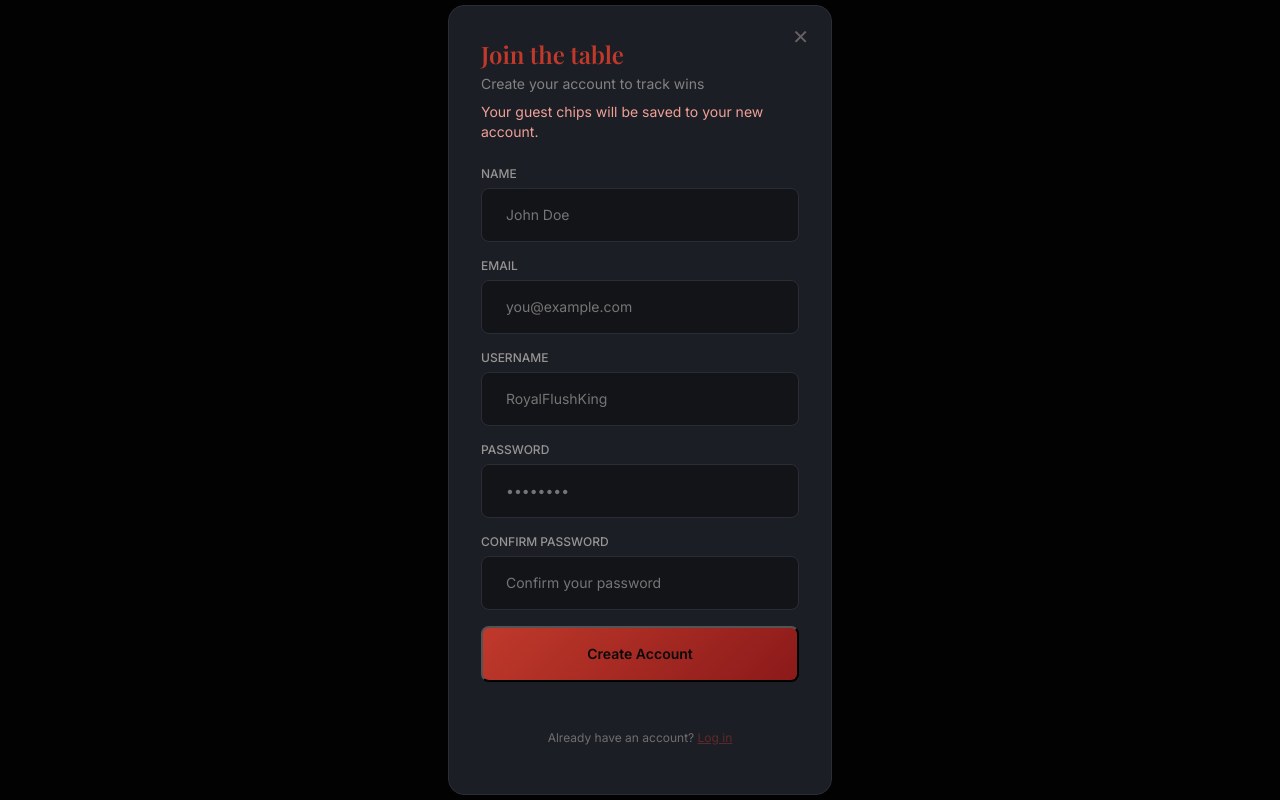
it: Sign up as a guest (G2) › if sign up fails, the guest is kept so their chips are not lost
In the field with placeholder "John Doe": (640, 215) [481, 188, 799, 242], type "Preston"
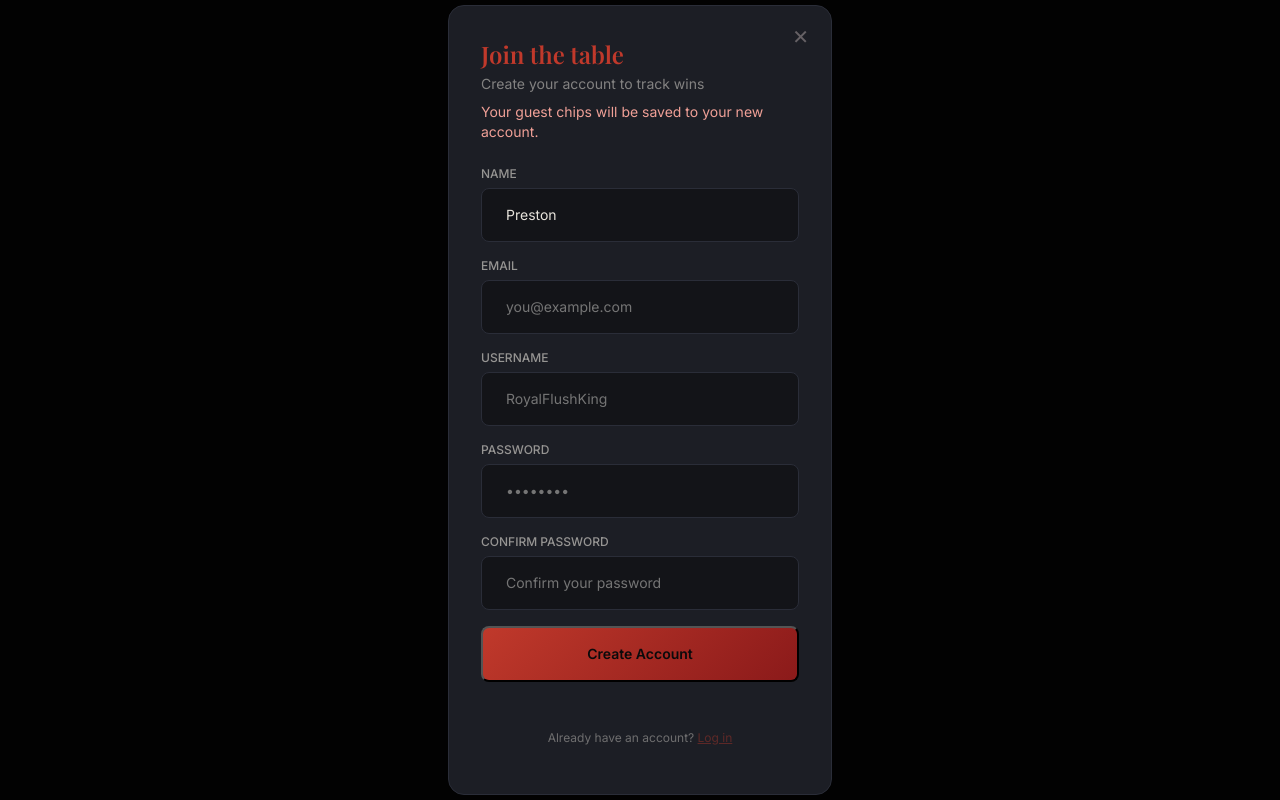
In the field with placeholder "you@example.com": (640, 307) [481, 280, 799, 334], type "preston@example.com"
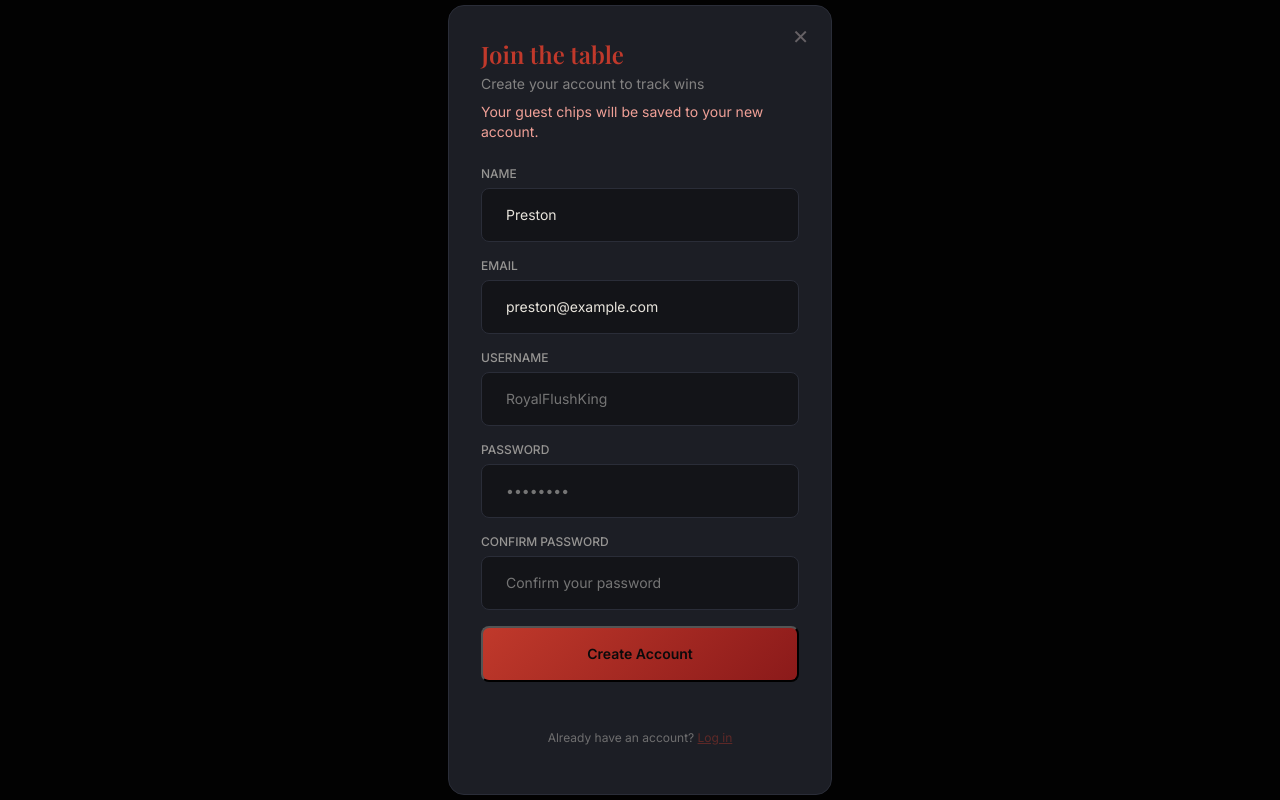
In the field with placeholder "RoyalFlushKing": (640, 399) [481, 372, 799, 426], type "PrestonA7"
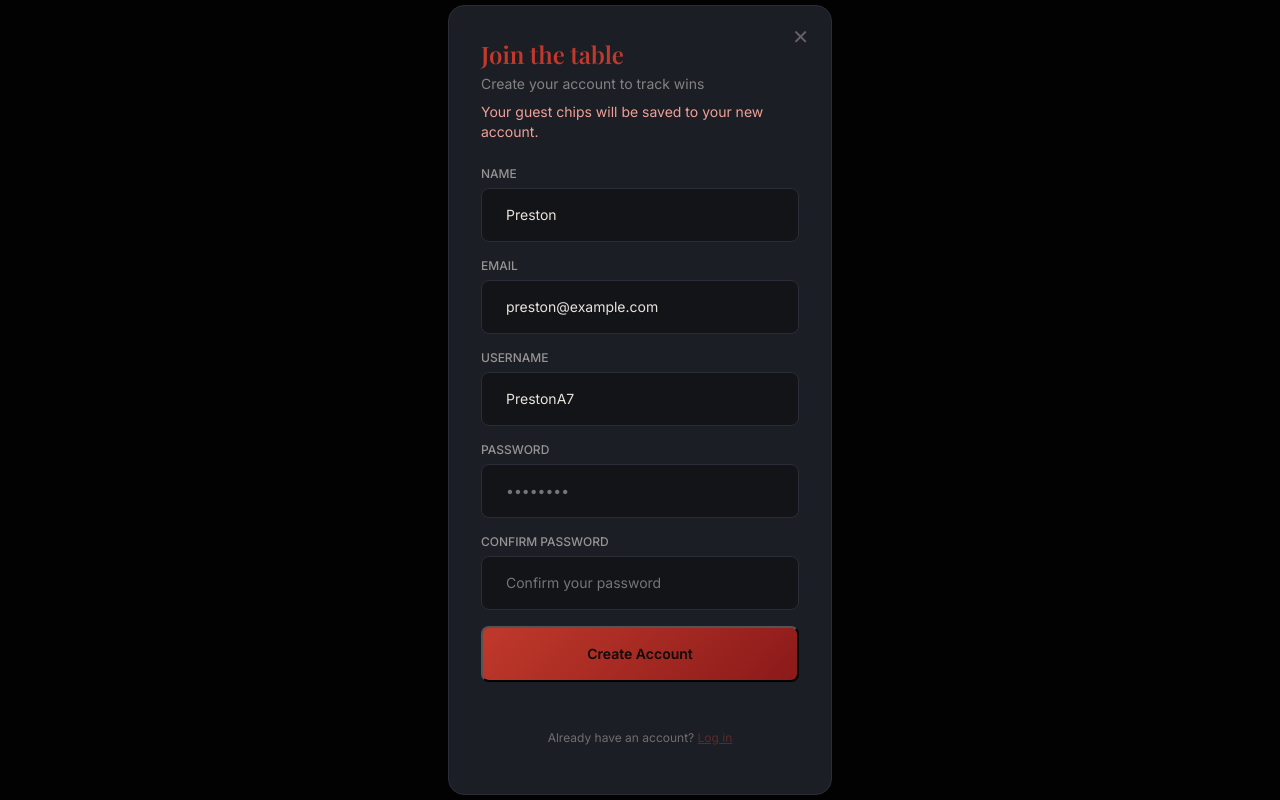
In the password field with placeholder "••••••••": (640, 491) [481, 464, 799, 518], type "password123"
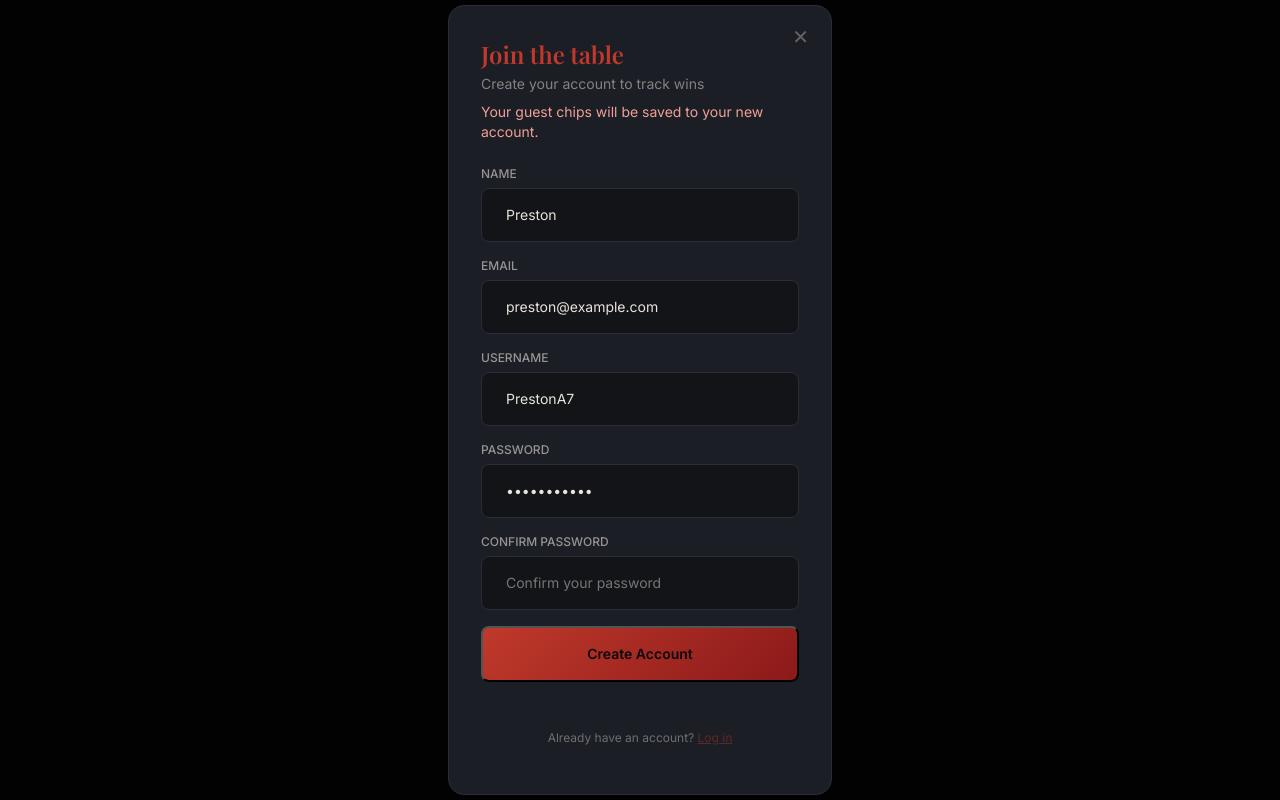
In the password field labelled "CONFIRM PASSWORD": (640, 583) [481, 556, 799, 610], type "password123"
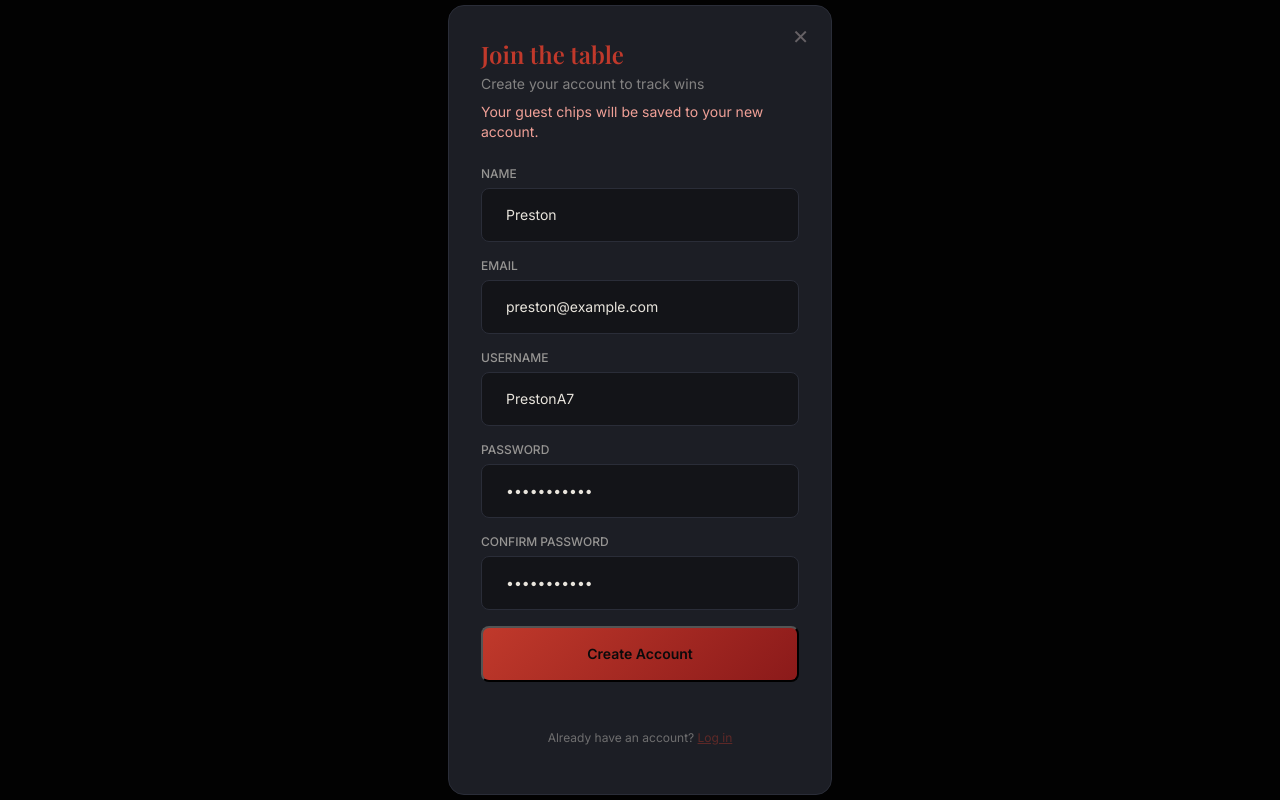
Submit the form, box [481, 166, 799, 682]
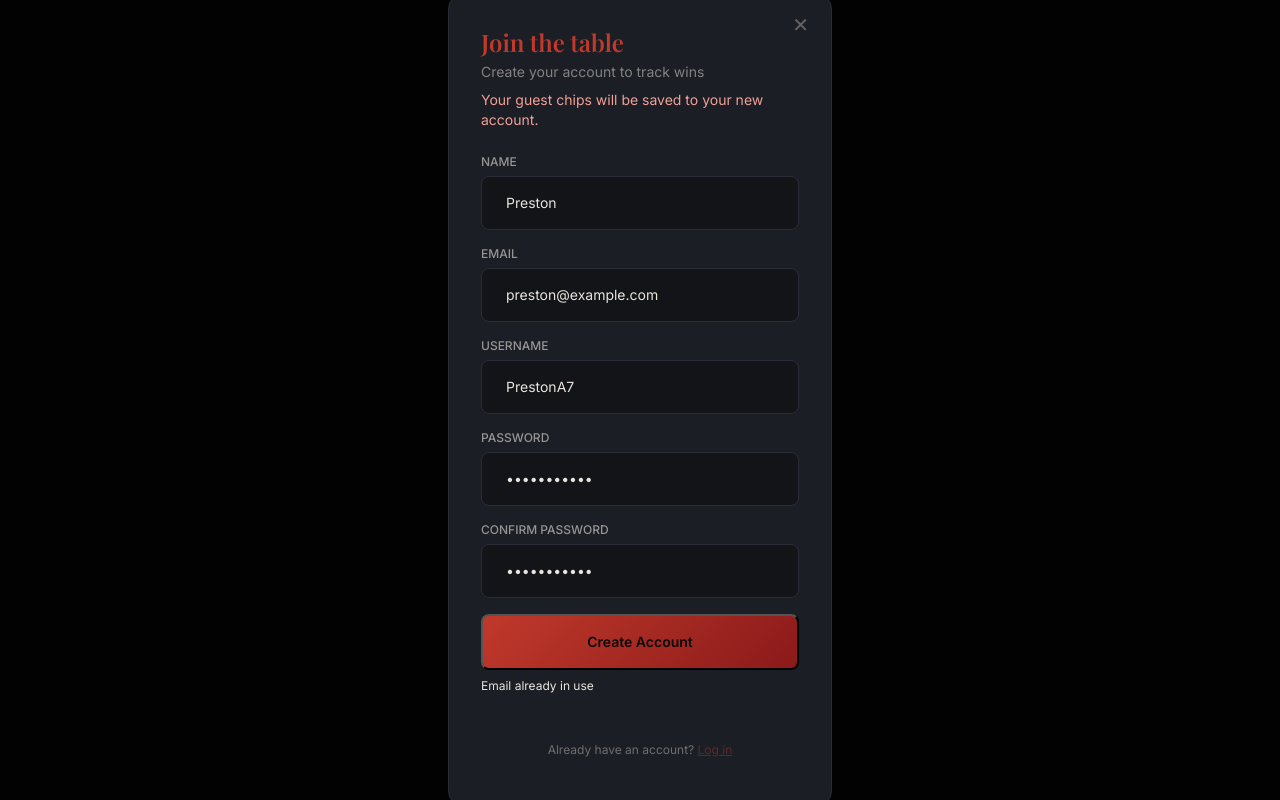
Check: the text "Email already in use" is shown, box [481, 678, 594, 693]
